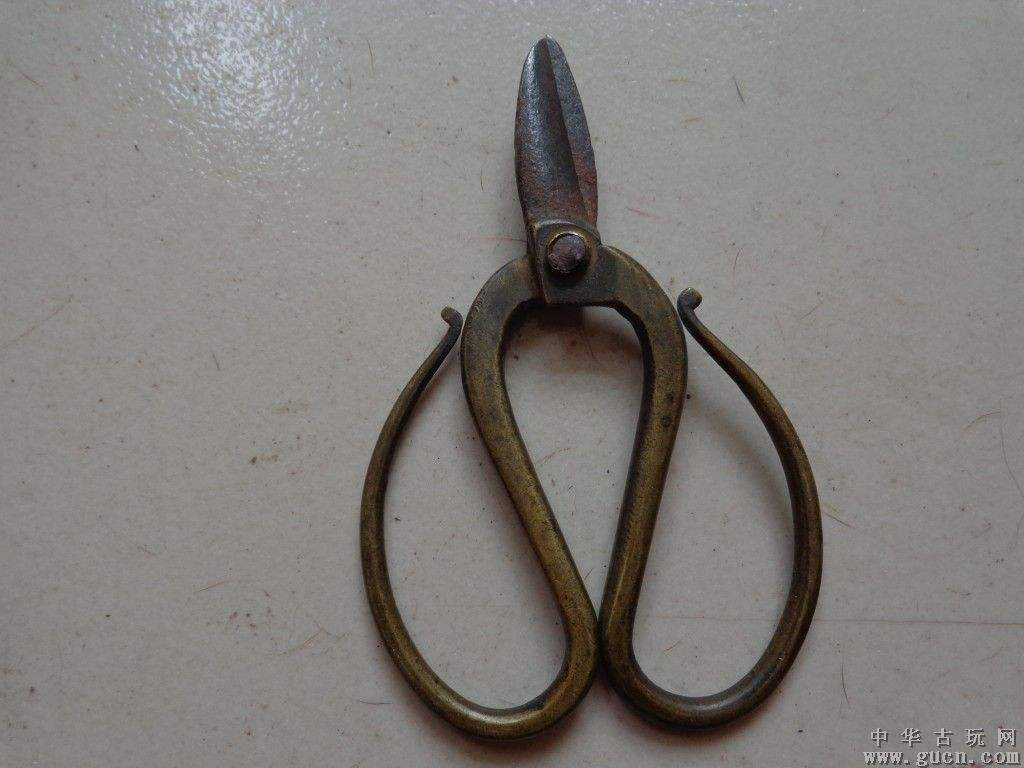scissor: (358, 31, 823, 741)
